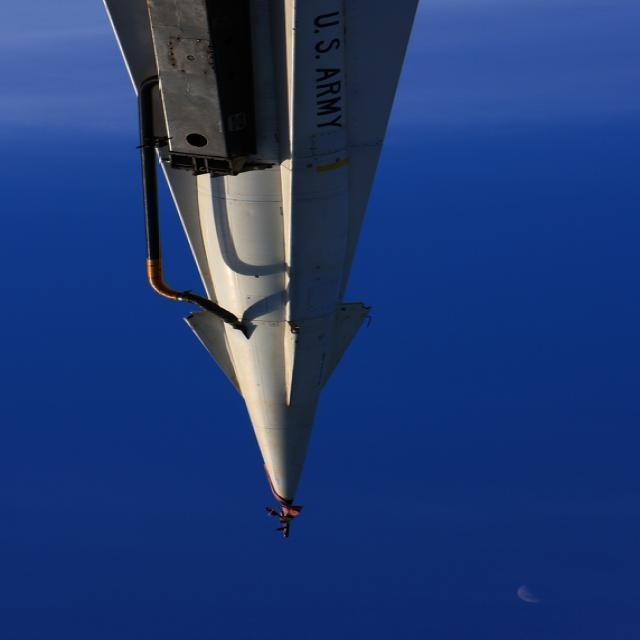missile: (176, 0, 354, 542)
